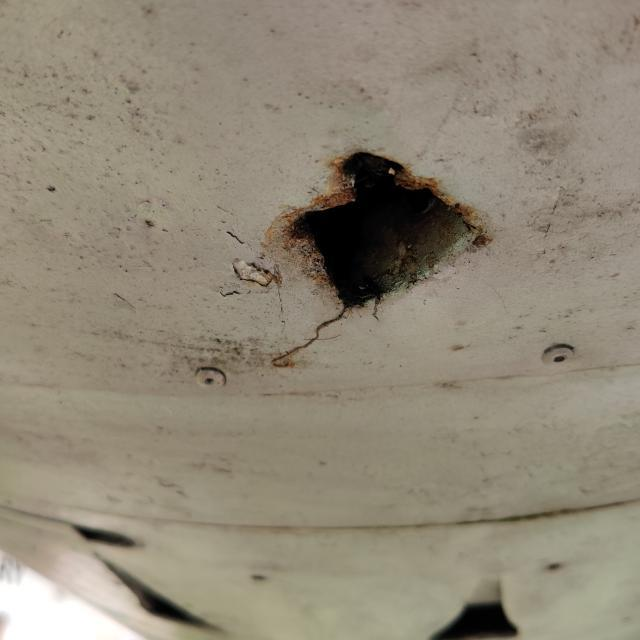crack: (248, 124, 519, 388)
